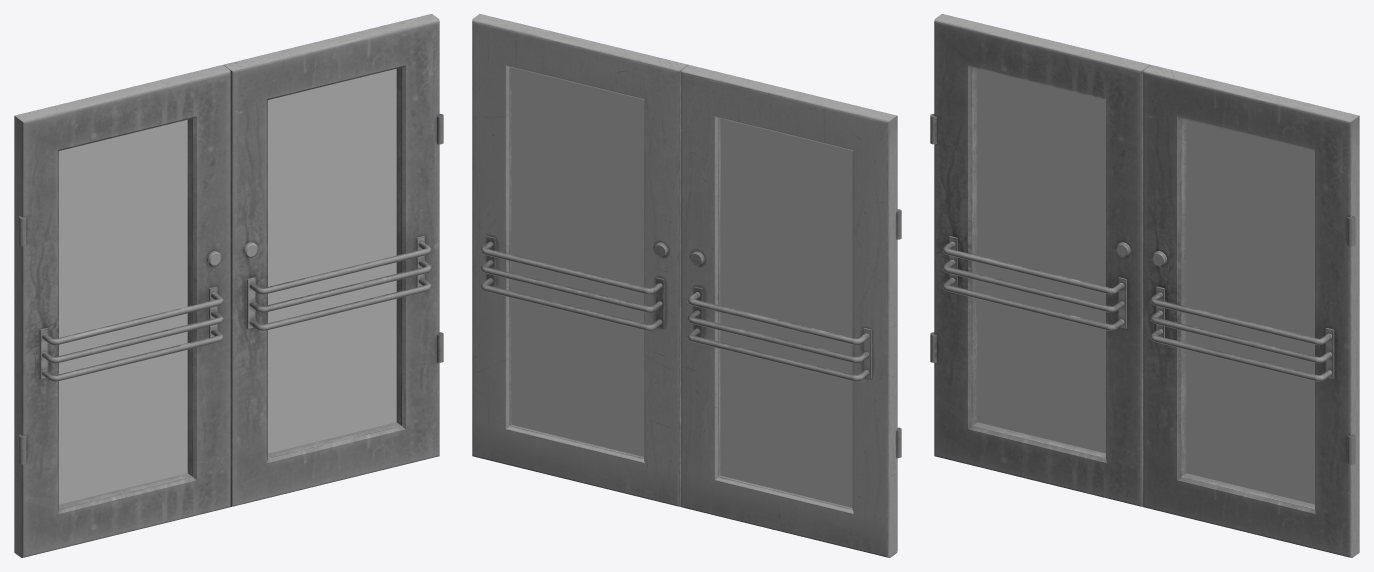
The model's file is SM_Door.fbx.
3 views of the same model, side by side, from view 1: azimuth 30°, elevation 25°; view 2: azimuth 150°, elevation 25°; view 3: azimuth 330°, elevation 25° (orthographic).
Visible parts, largest first — view 1: SM_Door_LOD0; view 2: SM_Door_LOD0; view 3: SM_Door_LOD0.
Boxes of the visible parts, x1=… form: SM_Door_LOD0: x1=14, y1=14, x2=443, y2=557; SM_Door_LOD0: x1=472, y1=14, x2=901, y2=557; SM_Door_LOD0: x1=930, y1=14, x2=1359, y2=557.
Bounding box in the file's own units: 244 × 32.37 × 240.
Materials: 2 (1 with a texture image).
